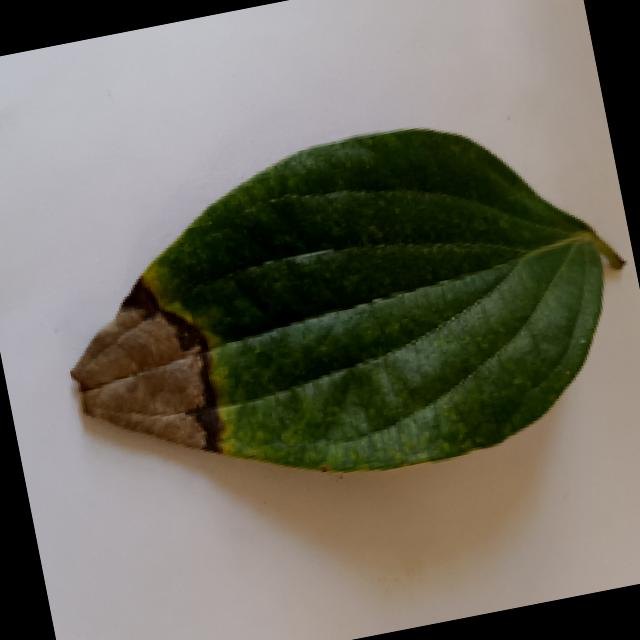footrot: (18, 88, 640, 554)
